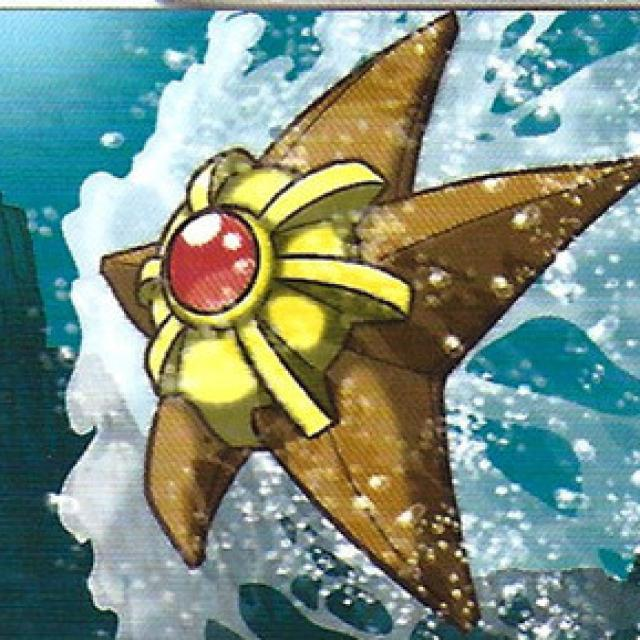Staryu: (97, 34, 627, 584)
